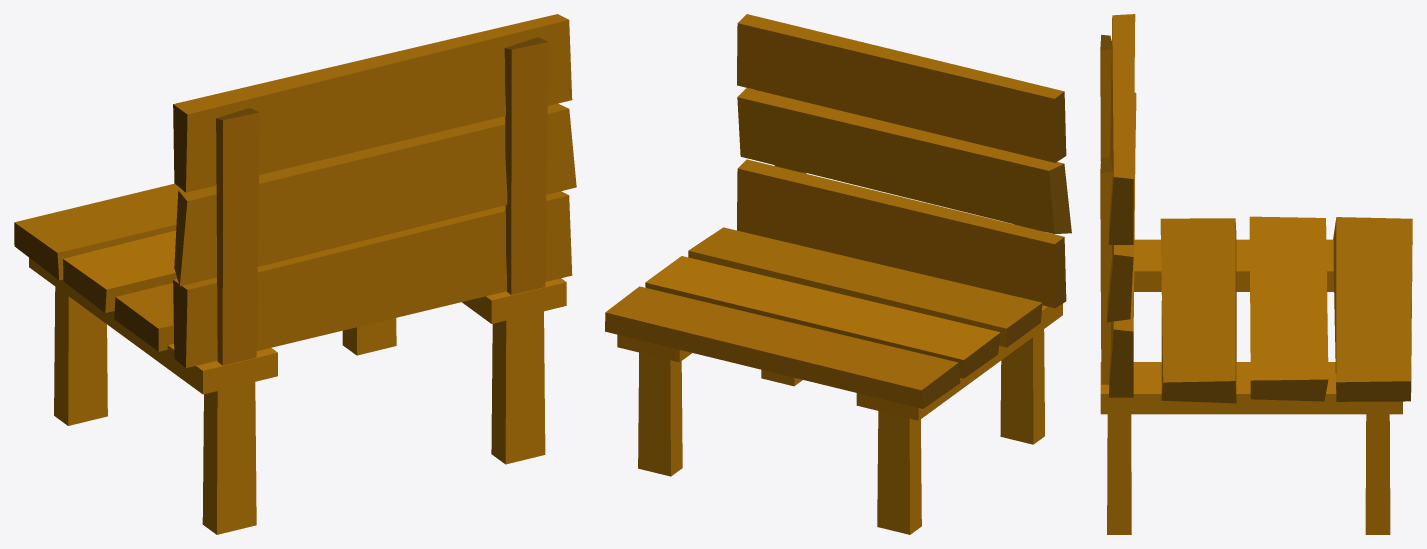
The model's file is chair.glb.
The picture shows the model from 3 angles, left to right: view 1: azimuth 30°, elevation 25°; view 2: azimuth 150°, elevation 25°; view 3: azimuth 270°, elevation 25°; orthographic projection. The views are drawn at different scales.
Parts seen in each view (by area): view 1: Cube.010, Cube.007, Cube.005, Cube.002, Cube.006, Cube.008, Cube.009, Cube.003, Cube.004, Cube.001; view 2: Cube.010, Cube.005, Cube.007, Cube.003, Cube.004, Cube.001, Cube.002, Cube.006; view 3: Cube.003, Cube.004, Cube.001, Cube.006, Cube.010, Cube.002, Cube.009, Cube.005, Cube.007, Cube.008.
Boxes of the visible parts, x1,y1,x2,y2 form: Cube.010: (173, 14, 572, 192); Cube.007: (174, 103, 576, 286); Cube.005: (173, 191, 572, 367); Cube.002: (29, 258, 277, 534); Cube.006: (342, 278, 566, 464); Cube.008: (216, 108, 259, 365); Cube.009: (504, 37, 548, 294); Cube.003: (14, 183, 181, 280); Cube.004: (63, 230, 177, 312); Cube.001: (114, 283, 173, 351); Cube.010: (737, 14, 1066, 162); Cube.005: (737, 159, 1066, 308); Cube.007: (737, 88, 1071, 234); Cube.003: (605, 286, 960, 408); Cube.004: (645, 256, 1000, 378); Cube.001: (688, 227, 1042, 347); Cube.002: (856, 304, 1062, 534); Cube.006: (617, 334, 802, 476); Cube.003: (1333, 217, 1412, 401); Cube.004: (1249, 216, 1328, 401); Cube.001: (1160, 218, 1236, 403); Cube.006: (1100, 362, 1402, 534); Cube.010: (1108, 14, 1135, 244); Cube.002: (1100, 239, 1333, 291); Cube.009: (1100, 157, 1112, 384); Cube.005: (1108, 167, 1135, 397); Cube.007: (1107, 92, 1136, 322); Cube.008: (1100, 34, 1111, 161).
Bounding box in the file's own units: 0.352 × 0.363 × 0.2778.
